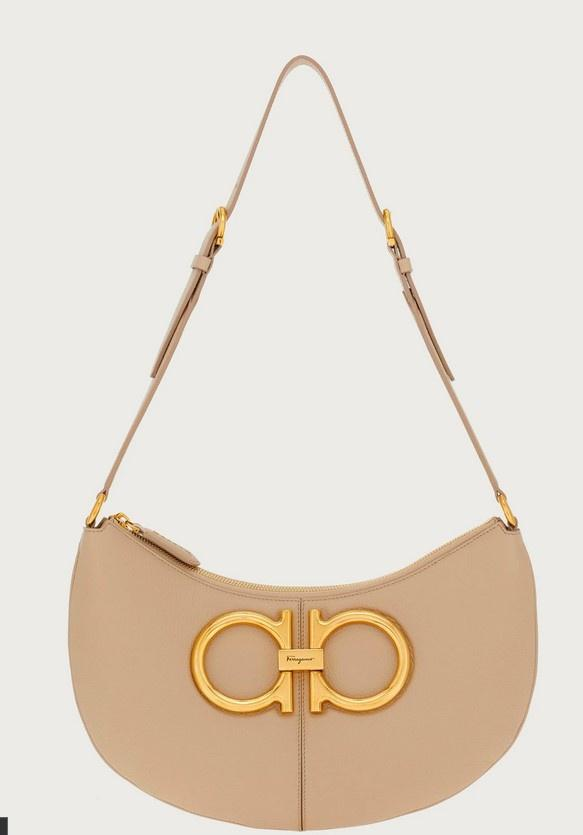FERRAGAMO: (173, 583, 425, 729)
